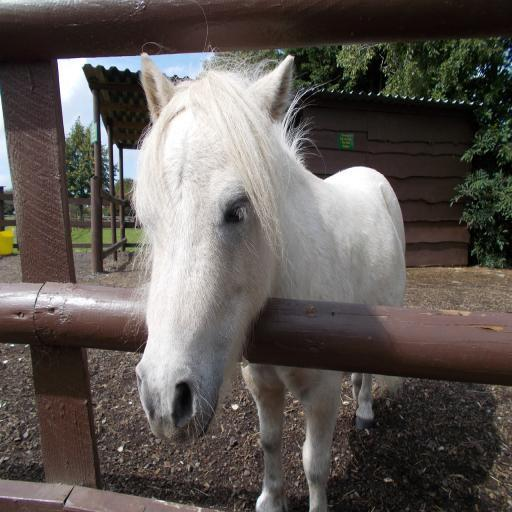horse: (134, 48, 408, 512)
